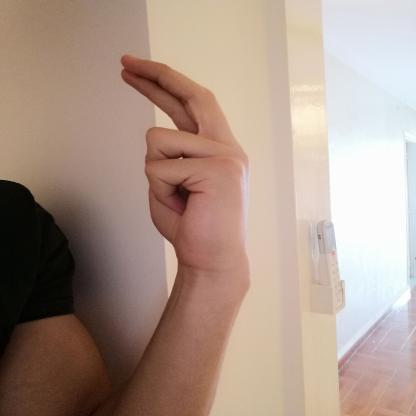ZAY: (107, 46, 260, 284)
